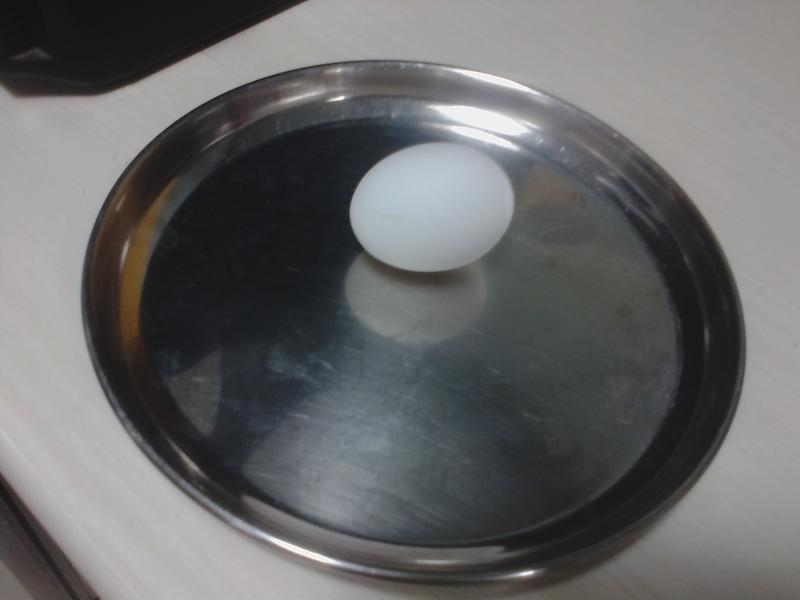egg: (348, 142, 513, 277)
